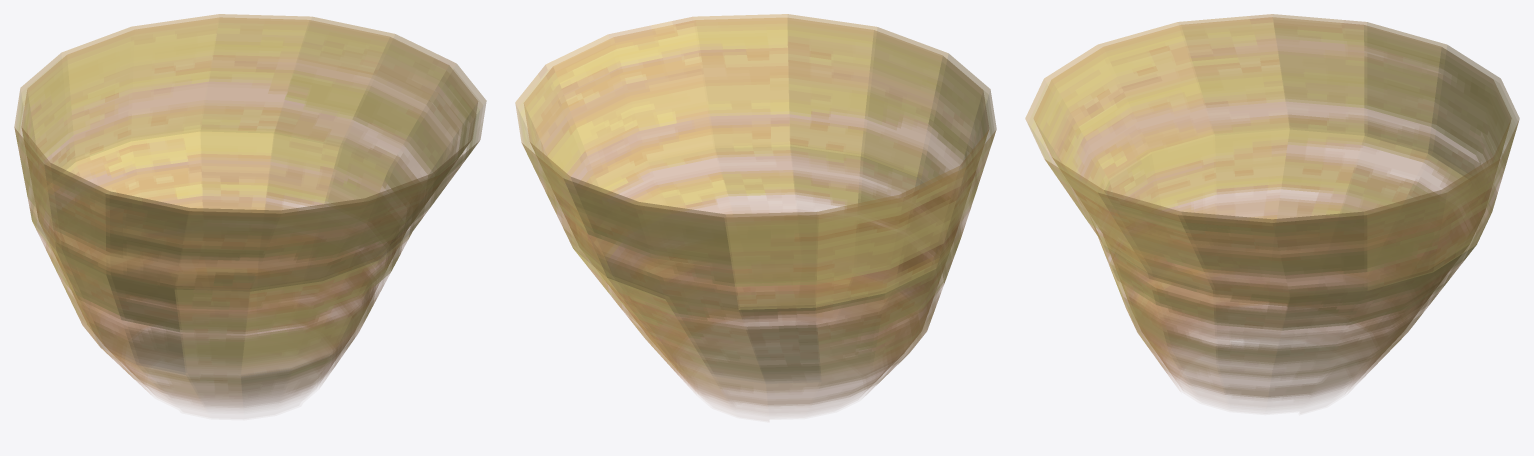
Rendered from sand_tornado.obj.
3 renders of one model, left to right at view 1: azimuth 30°, elevation 25°; view 2: azimuth 150°, elevation 25°; view 3: azimuth 270°, elevation 25°, orthographic. The views are drawn at different scales.
Parts seen in each view (by area): view 1: polySurface1; view 2: polySurface1; view 3: polySurface1.
Part boxes in pixels (x1,y1,x2,y2): polySurface1: (14, 14, 486, 411); polySurface1: (515, 14, 996, 414); polySurface1: (1025, 14, 1519, 408).
Size of the model in its own units: 190 by 130 by 190.
Materials: 2 (2 with a texture image).
